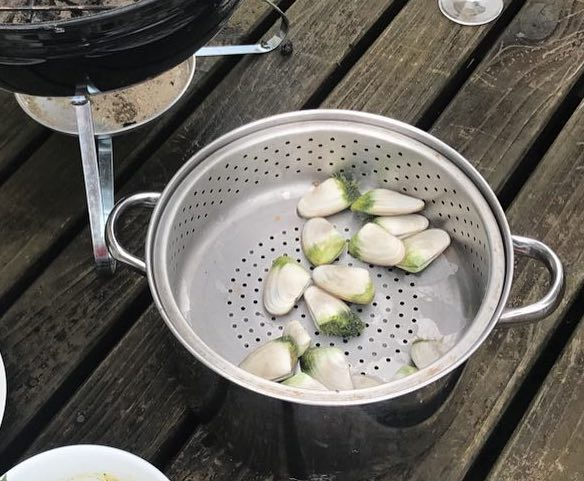tuatua: (301, 285, 365, 339), (231, 334, 301, 383), (261, 255, 312, 317), (309, 263, 378, 306), (297, 342, 354, 394), (297, 175, 357, 221), (348, 221, 405, 269), (349, 183, 428, 216), (399, 227, 452, 276), (301, 216, 347, 267), (360, 212, 433, 239)
